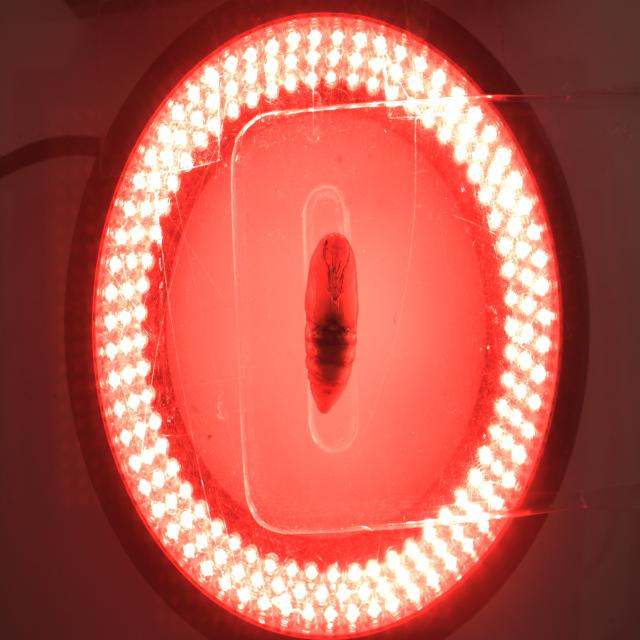male: (322, 388, 334, 397)
